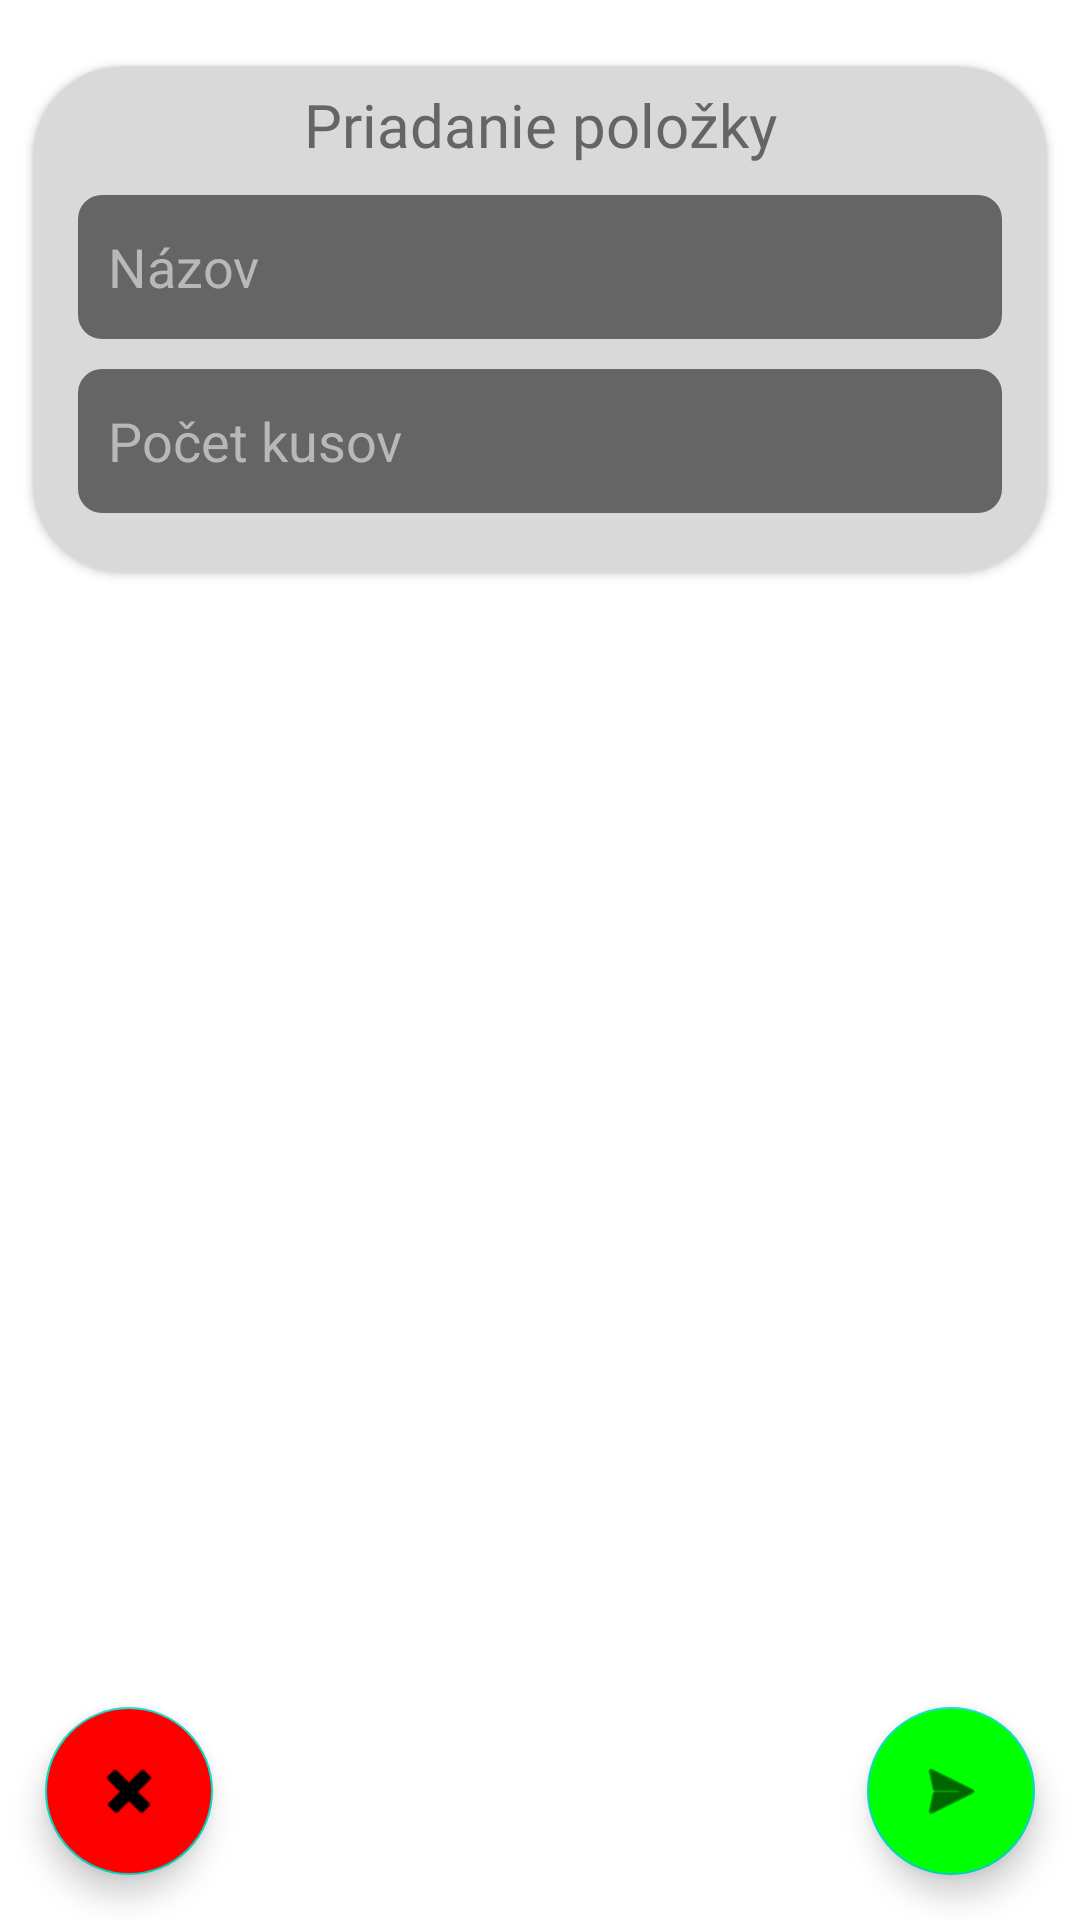

Named icons in this screenshot (1080x1920) and their centers, (x,y):
delete: (129,1791)
send: (951,1791)
